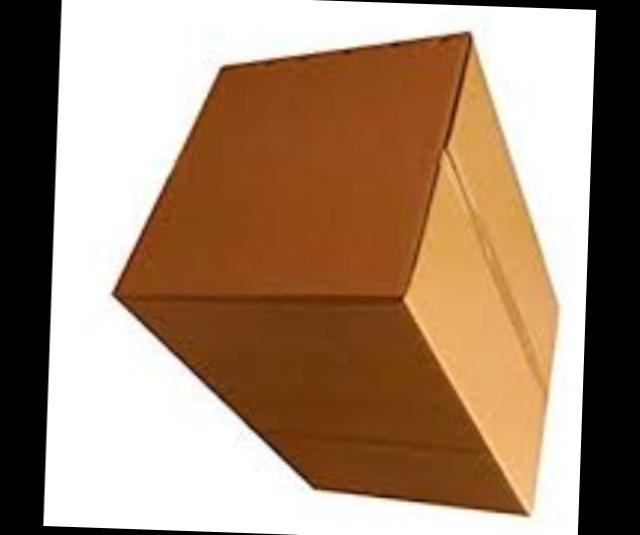cardboard paper: (123, 29, 562, 507)
